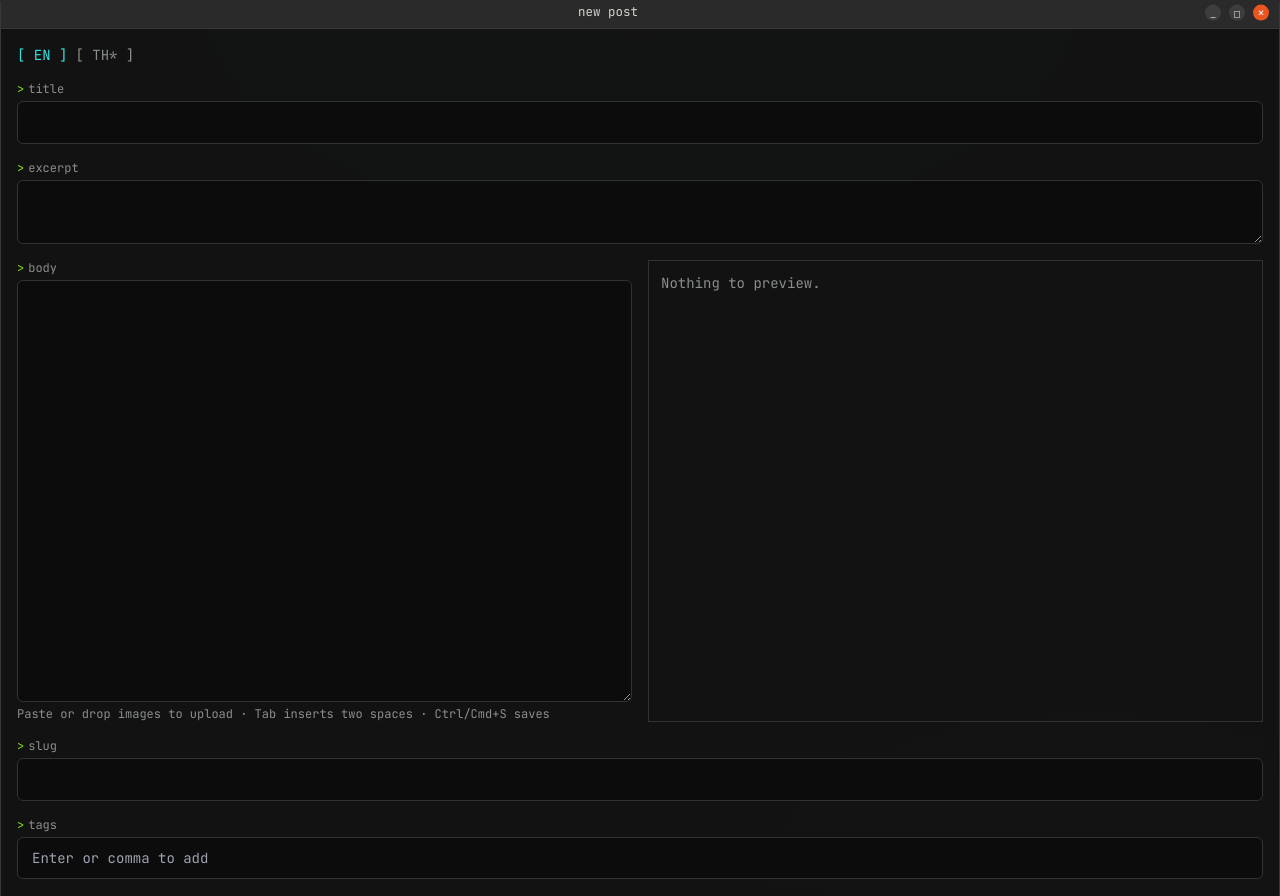
Test: creates with an auto slug, clears the draft and moves to the edit url
Step 1. Type "My Post" into the field labelled "title" → (640,122), box [17,101,1263,144]
(page scrolled)
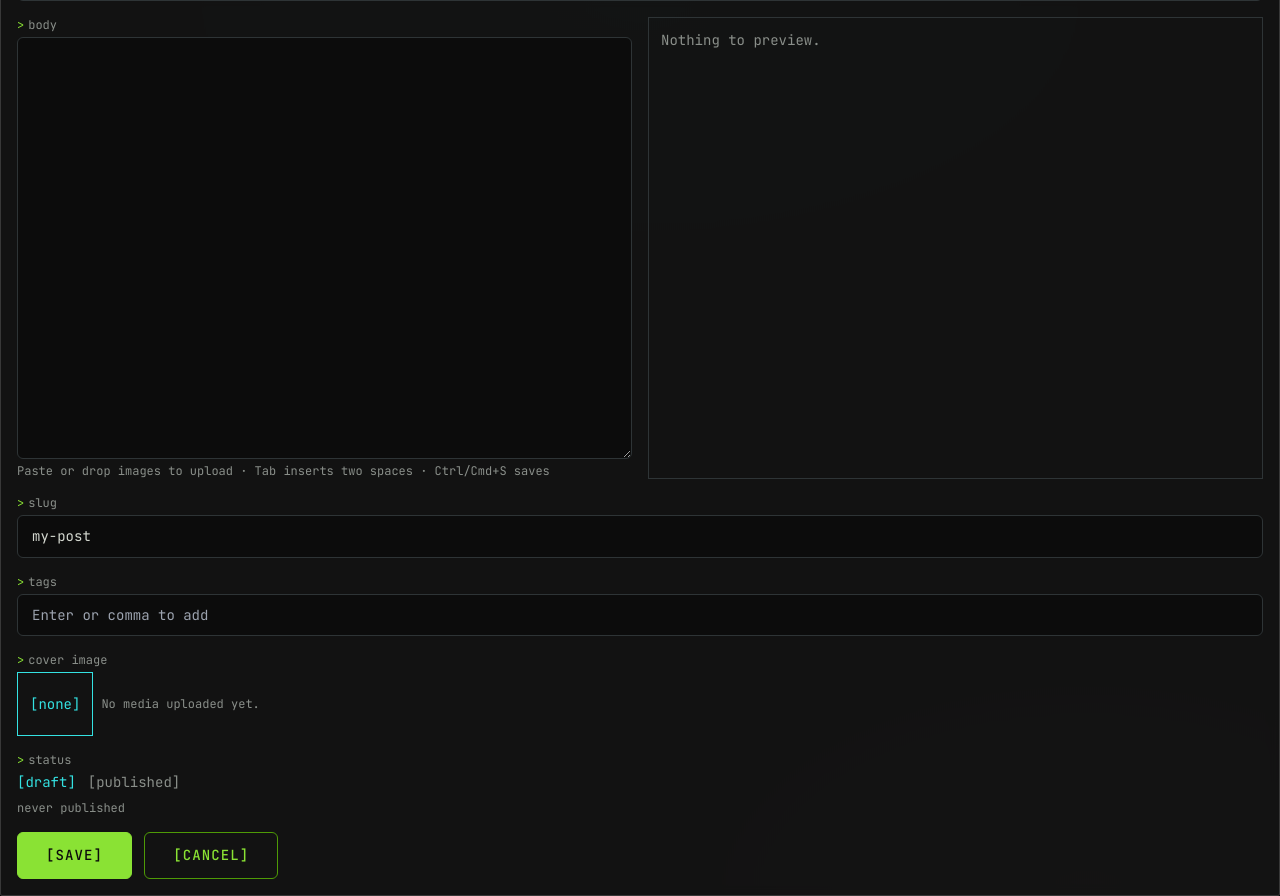
Now the field labelled "slug" holds "my-post", box [17,515,1263,558]
Step 2. Click the button "[published]" → (134,782), box [88,772,180,792]
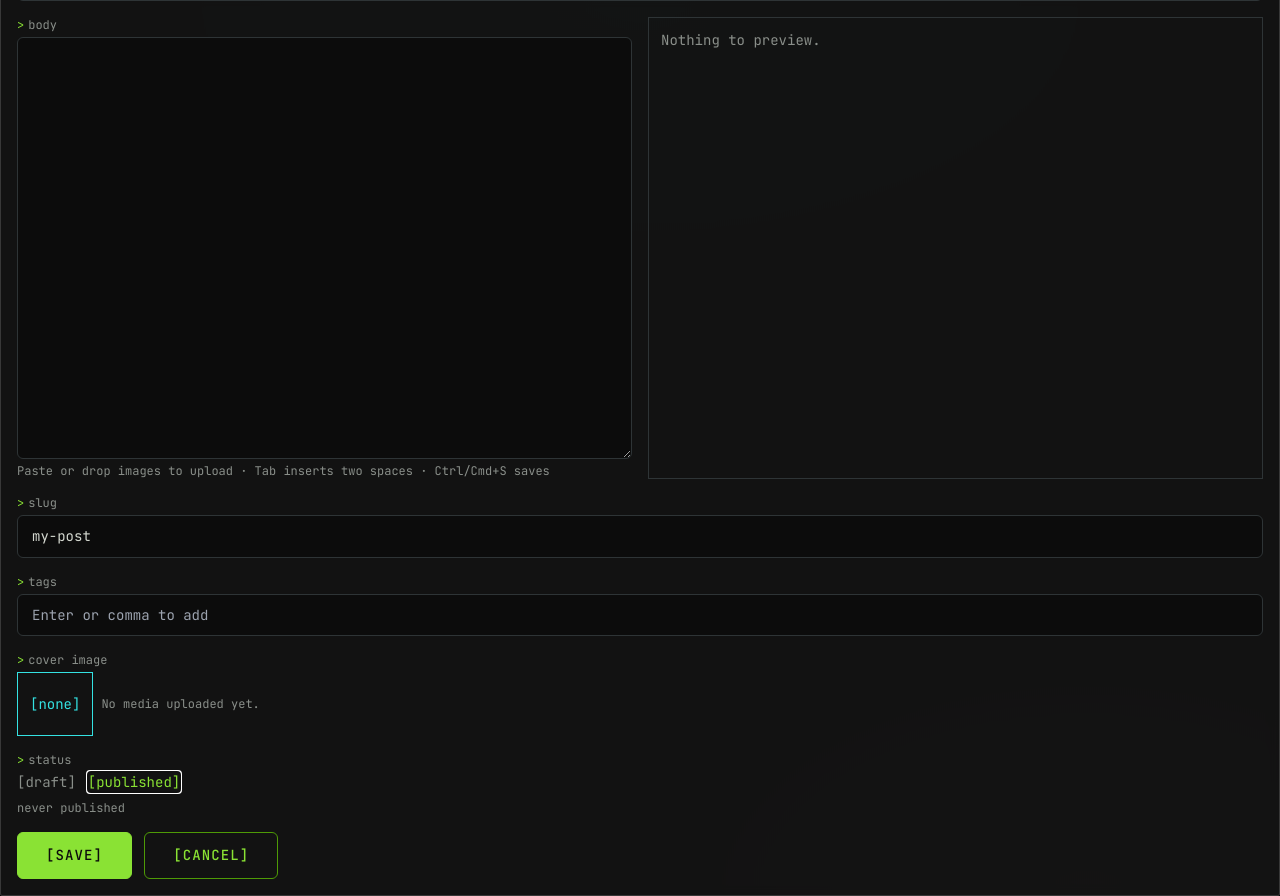
Step 3. Click the button "[save]" → (75,856), box [17,832,132,879]
(page scrolled)
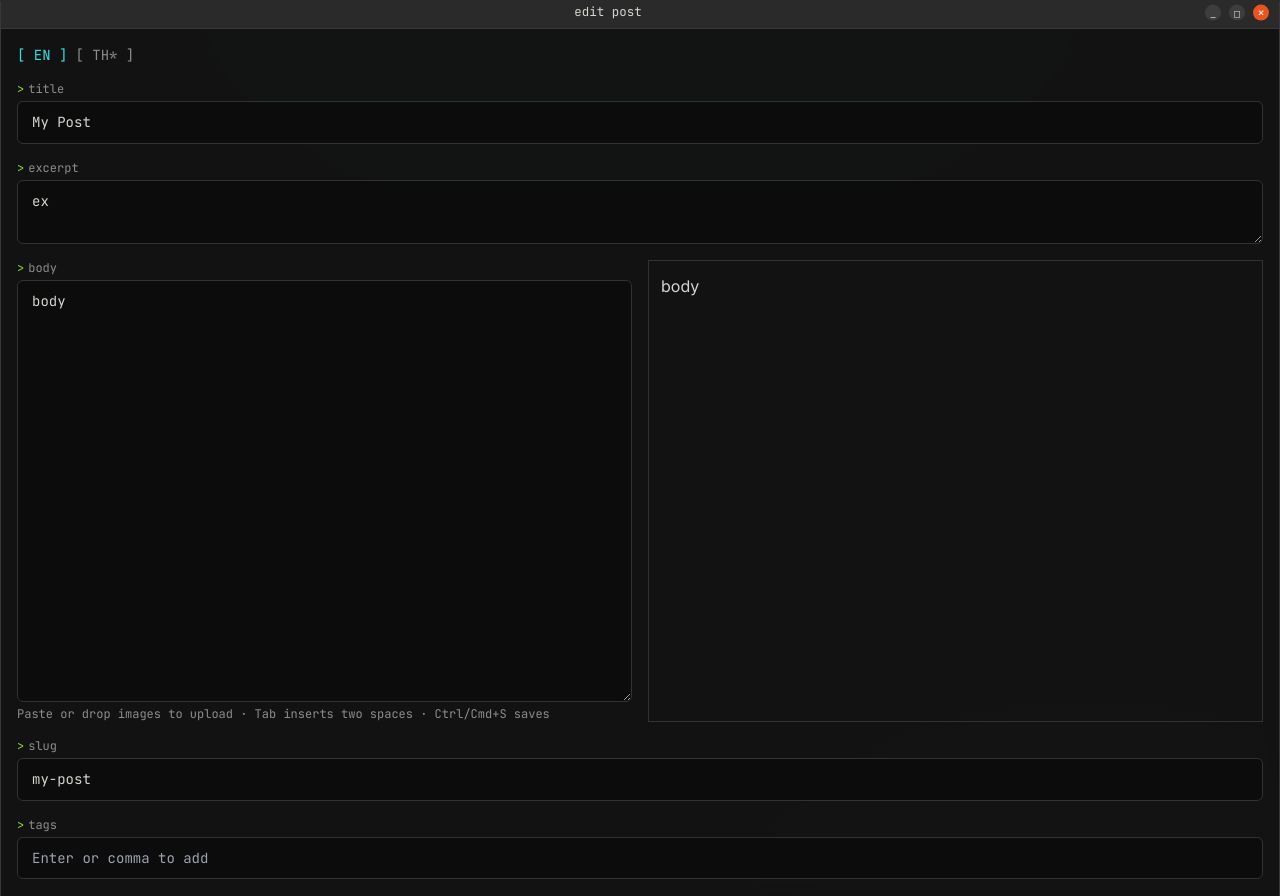
Now the text "edit post" is shown, box [574,4,642,21]
